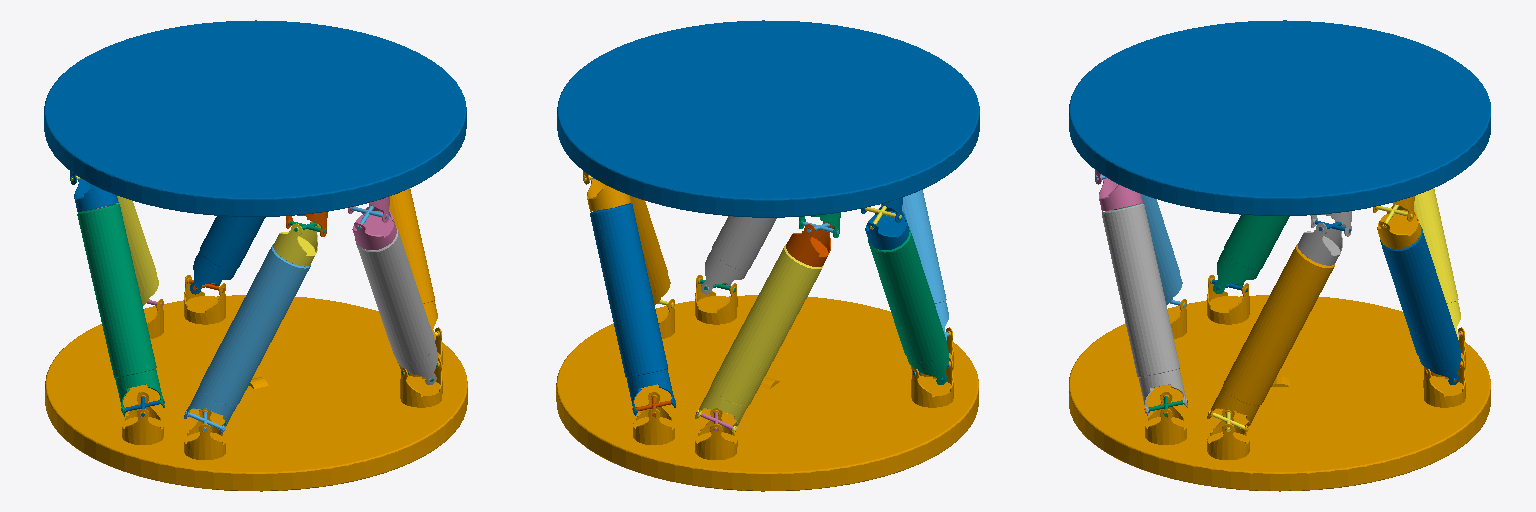
--- What the picture shows (computed from the rendered views, not written in the file) ---
Views: 3 orthographic renders of the robot side by side, from view 1: azimuth 30°, elevation 25°; view 2: azimuth 150°, elevation 25°; view 3: azimuth 270°, elevation 25°.
Robot: Stewart — 51 links, 50 joints (29 revolute, 1 continuous, 6 prismatic, 14 fixed); root link base_link; default pose: every joint at zero.
Visible links, largest first — view 1: TOP1, base_link, cylinder21, cylinder11, cylinder61, cylinder41, cylinder51, cylinder31, piston11, piston61, piston21; view 2: TOP1, base_link, cylinder41, cylinder31, cylinder21, cylinder61, cylinder11, cylinder51, piston31, piston21, piston41; view 3: TOP1, base_link, cylinder61, cylinder51, cylinder41, cylinder21, cylinder31, cylinder11, piston51, piston41, piston61.
Boxes of the visible links, left/top/right/bottom form: TOP1: left=44, top=20, right=466, bottom=216; base_link: left=45, top=275, right=467, bottom=491; cylinder21: left=77, top=204, right=164, bottom=416; cylinder11: left=184, top=245, right=310, bottom=434; cylinder61: left=355, top=227, right=437, bottom=384; cylinder41: left=190, top=216, right=265, bottom=294; cylinder51: left=369, top=188, right=437, bottom=339; cylinder31: left=116, top=196, right=158, bottom=305; piston11: left=273, top=221, right=320, bottom=266; piston61: left=352, top=205, right=396, bottom=249; piston21: left=74, top=175, right=118, bottom=211; TOP1: left=557, top=20, right=979, bottom=217; base_link: left=556, top=275, right=978, bottom=491; cylinder41: left=590, top=203, right=675, bottom=415; cylinder31: left=695, top=245, right=823, bottom=434; cylinder21: left=868, top=227, right=948, bottom=384; cylinder61: left=701, top=216, right=776, bottom=294; cylinder11: left=881, top=190, right=948, bottom=340; cylinder51: left=630, top=196, right=670, bottom=304; piston31: left=786, top=222, right=833, bottom=266; piston21: left=865, top=205, right=909, bottom=249; piston41: left=587, top=179, right=630, bottom=211; TOP1: left=1069, top=20, right=1490, bottom=215; base_link: left=1069, top=275, right=1490, bottom=491; cylinder61: left=1102, top=203, right=1187, bottom=415; cylinder51: left=1207, top=244, right=1334, bottom=434; cylinder41: left=1380, top=225, right=1460, bottom=384; cylinder21: left=1213, top=215, right=1289, bottom=293; cylinder31: left=1393, top=188, right=1460, bottom=339; cylinder11: left=1114, top=182, right=1182, bottom=304; piston51: left=1298, top=220, right=1345, bottom=265; piston41: left=1377, top=205, right=1420, bottom=248; piston61: left=1099, top=174, right=1142, bottom=211.
Size in the robot's own frame: 0.501 by 0.5004 by 0.3838 metres.
51 mesh visuals loaded from 51 distinct referenced files (51 binary STL).

robot.urdf — Stewart:
<?xml version="1.0" ?>
<robot name="Stewart">

<material name="silver">
  <color rgba="0.700 0.700 0.700 1.000"/>
</material>

<link name="base_link">
  <inertial>
    <origin xyz="2.3255899752716172e-11 -1.1937183962455178e-11 0.013288962255547656" rpy="0 0 0"/>
    <mass value="13.757667475145922"/>
    <inertia ixx="0.21797416015774124" iyy="0.2179741700510937" izz="0.4340771179526647" ixy="3.067776560401459e-11" iyz="4.670150176529436e-12" ixz="-8.804667573970036e-12"/>
  </inertial>
  <visual>
    <origin xyz="0 0 0" rpy="0 0 0"/>
    <geometry>
      <mesh filename="meshes/base_link.stl" scale="0.001 0.001 0.001"/>
    </geometry>
    <material name="silver"/>
    <material/>
  </visual>
  <collision>
    <origin xyz="0 0 0" rpy="0 0 0"/>
    <geometry>
      <mesh filename="meshes/base_link.stl" scale="0.001 0.001 0.001"/>
    </geometry>
  </collision>
</link>

<link name="X1bottom1">
  <inertial>
    <origin xyz="0.012750034781542574 0.022083926967425505 -4.07240130076425e-07" rpy="0 0 0"/>
    <mass value="0.015369342112821462"/>
    <inertia ixx="2.084365263984602e-06" iyy="1.9211221879191767e-06" izz="3.3040955648304437e-06" ixy="-1.4137265086372345e-07" iyz="-3.4574917186284927e-07" ixz="5.988551323401657e-07"/>
  </inertial>
  <visual>
    <origin xyz="0.160375 0.15639 -0.064756" rpy="0 0 0"/>
    <geometry>
      <mesh filename="meshes/X1bottom1.stl" scale="0.001 0.001 0.001"/>
    </geometry>
    <material name="silver"/>
    <material/>
  </visual>
  <collision>
    <origin xyz="0.160375 0.15639 -0.064756" rpy="0 0 0"/>
    <geometry>
      <mesh filename="meshes/X1bottom1.stl" scale="0.001 0.001 0.001"/>
    </geometry>
  </collision>
</link>

<link name="X6bottom1">
  <inertial>
    <origin xyz="-0.025500046262033477 -6.64043929288205e-08 -4.0724012435877643e-07" rpy="0 0 0"/>
    <mass value="0.015369342112821437"/>
    <inertia ixx="1.8395006492809914e-06" iyy="1.9359846193172324e-06" izz="3.534097746554256e-06" ixy="-1.5720931501039814e-18" iyz="-4.0435313273422735e-07" ixz="6.505213034913027e-19"/>
  </inertial>
  <visual>
    <origin xyz="-0.173125 0.134306 -0.064756" rpy="0 0 0"/>
    <geometry>
      <mesh filename="meshes/X6bottom1.stl" scale="0.001 0.001 0.001"/>
    </geometry>
    <material name="silver"/>
    <material/>
  </visual>
  <collision>
    <origin xyz="-0.173125 0.134306 -0.064756" rpy="0 0 0"/>
    <geometry>
      <mesh filename="meshes/X6bottom1.stl" scale="0.001 0.001 0.001"/>
    </geometry>
  </collision>
</link>

<link name="X5bottom1">
  <inertial>
    <origin xyz="-0.02550004626203478 6.64043108555834e-08 -4.072401355581512e-07" rpy="0 0 0"/>
    <mass value="0.015369342112821526"/>
    <inertia ixx="1.8395006498894727e-06" iyy="2.172764835612533e-06" izz="3.2973175311558616e-06" ixy="6.505213034913027e-19" iyz="6.970209157905062e-07" ixz="-6.776263578034403e-19"/>
  </inertial>
  <visual>
    <origin xyz="-0.215625 0.060694 -0.064756" rpy="0 0 0"/>
    <geometry>
      <mesh filename="meshes/X5bottom1.stl" scale="0.001 0.001 0.001"/>
    </geometry>
    <material name="silver"/>
    <material/>
  </visual>
  <collision>
    <origin xyz="-0.215625 0.060694 -0.064756" rpy="0 0 0"/>
    <geometry>
      <mesh filename="meshes/X5bottom1.stl" scale="0.001 0.001 0.001"/>
    </geometry>
  </collision>
</link>

<link name="X2bottom1">
  <inertial>
    <origin xyz="0.012750057742457938 0.02208407303261209 -4.0724011943216176e-07" rpy="0 0 0"/>
    <mass value="0.01536934211282146"/>
    <inertia ixx="1.9154889064606698e-06" iyy="1.8648300683498514e-06" izz="3.52926404049189e-06" ixy="-4.387184072903198e-08" iyz="2.0688336118809613e-07" ixz="-3.583324928187583e-07"/>
  </inertial>
  <visual>
    <origin xyz="0.202875 0.082778 -0.064756" rpy="0 0 0"/>
    <geometry>
      <mesh filename="meshes/X2bottom1.stl" scale="0.001 0.001 0.001"/>
    </geometry>
    <material name="silver"/>
    <material/>
  </visual>
  <collision>
    <origin xyz="0.202875 0.082778 -0.064756" rpy="0 0 0"/>
    <geometry>
      <mesh filename="meshes/X2bottom1.stl" scale="0.001 0.001 0.001"/>
    </geometry>
  </collision>
</link>

<link name="X4bottom1">
  <inertial>
    <origin xyz="-0.01275001148042354 0.02208399337177483 -4.0724011900195034e-07" rpy="0 0 0"/>
    <mass value="0.015369342112821484"/>
    <inertia ixx="1.9105114098006163e-06" iyy="1.8631709027955968e-06" izz="3.5359007027058187e-06" ixy="4.0998081692929103e-08" iyz="2.0038517759793806e-07" ixz="3.470773086839383e-07"/>
  </inertial>
  <visual>
    <origin xyz="-0.05525 -0.172916 -0.064756" rpy="0 0 0"/>
    <geometry>
      <mesh filename="meshes/X4bottom1.stl" scale="0.001 0.001 0.001"/>
    </geometry>
    <material name="silver"/>
    <material/>
  </visual>
  <collision>
    <origin xyz="-0.05525 -0.172916 -0.064756" rpy="0 0 0"/>
    <geometry>
      <mesh filename="meshes/X4bottom1.stl" scale="0.001 0.001 0.001"/>
    </geometry>
  </collision>
</link>

<link name="X3bottom1">
  <inertial>
    <origin xyz="-0.012749988519508704 0.022084006628265207 -4.0724013015969174e-07" rpy="0 0 0"/>
    <mass value="0.015369342112821385"/>
    <inertia ixx="2.0920363194620656e-06" iyy="1.9236792064083623e-06" izz="3.293867490850879e-06" ixy="1.4580153681278572e-07" iyz="-3.4989498656401896e-07" ixz="-6.06035894043035e-07"/>
  </inertial>
  <visual>
    <origin xyz="0.02975 -0.172916 -0.064756" rpy="0 0 0"/>
    <geometry>
      <mesh filename="meshes/X3bottom1.stl" scale="0.001 0.001 0.001"/>
    </geometry>
    <material name="silver"/>
    <material/>
  </visual>
  <collision>
    <origin xyz="0.02975 -0.172916 -0.064756" rpy="0 0 0"/>
    <geometry>
      <mesh filename="meshes/X3bottom1.stl" scale="0.001 0.001 0.001"/>
    </geometry>
  </collision>
</link>

<link name="cylinder61">
  <inertial>
    <origin xyz="-0.04918434904597231 -0.05287862749126965 0.11066211878578129" rpy="0 0 0"/>
    <mass value="1.0834595415274024"/>
    <inertia ixx="0.003931029690579582" iyy="0.004331438955675698" izz="0.0011906258425340571" ixy="-0.0003353486833466146" iyz="0.0007946758036431328" ixz="0.0014054232697529832"/>
  </inertial>
  <visual>
    <origin xyz="-0.147625 0.109259 -0.070732" rpy="0 0 0"/>
    <geometry>
      <mesh filename="meshes/cylinder61.stl" scale="0.001 0.001 0.001"/>
    </geometry>
    <material name="silver"/>
    <material/>
  </visual>
  <collision>
    <origin xyz="-0.147625 0.109259 -0.070732" rpy="0 0 0"/>
    <geometry>
      <mesh filename="meshes/cylinder61.stl" scale="0.001 0.001 0.001"/>
    </geometry>
  </collision>
</link>

<link name="cylinder51">
  <inertial>
    <origin xyz="-0.0004859817530507571 0.07913805533522147 0.10582169844859306" rpy="0 0 0"/>
    <mass value="1.0834593359661664"/>
    <inertia ixx="0.0045236090842445675" iyy="0.00375582949509122" izz="0.001173648926438016" ixy="6.655292627263292e-06" iyz="-0.0016004734534385834" ixz="1.3919592264648173e-05"/>
  </inertial>
  <visual>
    <origin xyz="-0.190125 0.083925 -0.075863" rpy="0 0 0"/>
    <geometry>
      <mesh filename="meshes/cylinder51.stl" scale="0.001 0.001 0.001"/>
    </geometry>
    <material name="silver"/>
    <material/>
  </visual>
  <collision>
    <origin xyz="-0.190125 0.083925 -0.075863" rpy="0 0 0"/>
    <geometry>
      <mesh filename="meshes/cylinder51.stl" scale="0.001 0.001 0.001"/>
    </geometry>
  </collision>
</link>

<link name="cylinder11">
  <inertial>
    <origin xyz="0.027679031631056533 -0.01615886449286605 0.12819492556868725" rpy="0 0 0"/>
    <mass value="1.0834595971642158"/>
    <inertia ixx="0.003961270893089702" iyy="0.004333780915973265" izz="0.0011580440629181954" ixy="0.00032679379954486665" iyz="0.0007977502915447882" ixz="-0.0013728685448845604"/>
  </inertial>
  <visual>
    <origin xyz="0.127459 0.145949 -0.053762" rpy="0 0 0"/>
    <geometry>
      <mesh filename="meshes/cylinder11.stl" scale="0.001 0.001 0.001"/>
    </geometry>
    <material name="silver"/>
    <material/>
  </visual>
  <collision>
    <origin xyz="0.127459 0.145949 -0.053762" rpy="0 0 0"/>
    <geometry>
      <mesh filename="meshes/cylinder11.stl" scale="0.001 0.001 0.001"/>
    </geometry>
  </collision>
</link>

<link name="cylinder21">
  <inertial>
    <origin xyz="-0.02214597551926259 0.06882930176160315 0.1106042549760402" rpy="0 0 0"/>
    <mass value="1.0834595997030583"/>
    <inertia ixx="0.004521764122383441" iyy="0.0037458663101917478" izz="0.0011854653467073123" ixy="7.769778620969376e-06" iyz="-0.0016103811645094381" ixz="1.3367128346729318e-05"/>
  </inertial>
  <visual>
    <origin xyz="0.168465 0.073199 -0.07088" rpy="0 0 0"/>
    <geometry>
      <mesh filename="meshes/cylinder21.stl" scale="0.001 0.001 0.001"/>
    </geometry>
    <material name="silver"/>
    <material/>
  </visual>
  <collision>
    <origin xyz="0.168465 0.073199 -0.07088" rpy="0 0 0"/>
    <geometry>
      <mesh filename="meshes/cylinder21.stl" scale="0.001 0.001 0.001"/>
    </geometry>
  </collision>
</link>

<link name="cylinder31">
  <inertial>
    <origin xyz="-0.06900668487132594 -0.03927565360067878 0.10562619849582729" rpy="0 0 0"/>
    <mass value="1.0834597856232793"/>
    <inertia ixx="0.003935998987140948" iyy="0.0043355285821549475" izz="0.0011815729850209941" ixy="-0.00033251703539186744" iyz="0.0007912799527111589" ixz="0.001398565608451037"/>
  </inertial>
  <visual>
    <origin xyz="0.022405 -0.206602 -0.07592" rpy="0 0 0"/>
    <geometry>
      <mesh filename="meshes/cylinder31.stl" scale="0.001 0.001 0.001"/>
    </geometry>
    <material name="silver"/>
    <material/>
  </visual>
  <collision>
    <origin xyz="0.022405 -0.206602 -0.07592" rpy="0 0 0"/>
    <geometry>
      <mesh filename="meshes/cylinder31.stl" scale="0.001 0.001 0.001"/>
    </geometry>
  </collision>
</link>

<link name="cylinder41">
  <inertial>
    <origin xyz="0.026360716070562548 -0.04045811761718601 0.12300236186687408" rpy="0 0 0"/>
    <mass value="1.083459390274659"/>
    <inertia ixx="0.003955875101816386" iyy="0.004331963660871262" izz="0.001165249847257084" ixy="0.00032777770212437385" iyz="0.0008013649666691741" ixz="-0.0013781057966789113"/>
  </inertial>
  <visual>
    <origin xyz="-0.064203 -0.20753 -0.058835" rpy="0 0 0"/>
    <geometry>
      <mesh filename="meshes/cylinder41.stl" scale="0.001 0.001 0.001"/>
    </geometry>
    <material name="silver"/>
    <material/>
  </visual>
  <collision>
    <origin xyz="-0.064203 -0.20753 -0.058835" rpy="0 0 0"/>
    <geometry>
      <mesh filename="meshes/cylinder41.stl" scale="0.001 0.001 0.001"/>
    </geometry>
  </collision>
</link>

<link name="rod11">
  <inertial>
    <origin xyz="-0.03669234752605403 0.021321590239931215 -0.08988297425474576" rpy="0 0 0"/>
    <mass value="0.2833716573537993"/>
    <inertia ixx="0.000823902654109393" iyy="0.0009085197934918156" izz="0.00018505910049279248" ixy="7.423528261029082e-05" iyz="0.00018184738918601215" ixz="-0.0003129468812543765"/>
  </inertial>
  <visual>
    <origin xyz="0.059027 0.185789 -0.281787" rpy="0 0 0"/>
    <geometry>
      <mesh filename="meshes/rod11.stl" scale="0.001 0.001 0.001"/>
    </geometry>
    <material name="silver"/>
    <material/>
  </visual>
  <collision>
    <origin xyz="0.059027 0.185789 -0.281787" rpy="0 0 0"/>
    <geometry>
      <mesh filename="meshes/rod11.stl" scale="0.001 0.001 0.001"/>
    </geometry>
  </collision>
</link>

<link name="rod21">
  <inertial>
    <origin xyz="0.00037095794647595826 -0.04297719725828332 -0.0890675531341732" rpy="0 0 0"/>
    <mass value="0.2833716573537998"/>
    <inertia ixx="0.0009516433027025335" iyy="0.000774608025275101" izz="0.00019123022011655576" ixy="1.5275741736574117e-06" iyz="-0.0003669227394076931" ixz="3.1658095691923516e-06"/>
  </inertial>
  <visual>
    <origin xyz="0.191025 -0.043606 -0.280911" rpy="0 0 0"/>
    <geometry>
      <mesh filename="meshes/rod21.stl" scale="0.001 0.001 0.001"/>
    </geometry>
    <material name="silver"/>
    <material/>
  </visual>
  <collision>
    <origin xyz="0.191025 -0.043606 -0.280911" rpy="0 0 0"/>
    <geometry>
      <mesh filename="meshes/rod21.stl" scale="0.001 0.001 0.001"/>
    </geometry>
  </collision>
</link>

<link name="rod31">
  <inertial>
    <origin xyz="0.037368961812755036 0.02114222879717423 -0.08922801503409522" rpy="0 0 0"/>
    <mass value="0.2833716573537997"/>
    <inertia ixx="0.0008181425222781279" iyy="0.0009089165651000094" izz="0.0001904224607157841" ixy="-7.55405563361124e-05" iyz="0.0001803748300181745" ixz="0.0003188030254016438"/>
  </inertial>
  <visual>
    <origin xyz="0.133074 -0.143755 -0.281026" rpy="0 0 0"/>
    <geometry>
      <mesh filename="meshes/rod31.stl" scale="0.001 0.001 0.001"/>
    </geometry>
    <material name="silver"/>
    <material/>
  </visual>
  <collision>
    <origin xyz="0.133074 -0.143755 -0.281026" rpy="0 0 0"/>
    <geometry>
      <mesh filename="meshes/rod31.stl" scale="0.001 0.001 0.001"/>
    </geometry>
  </collision>
</link>

<link name="rod41">
  <inertial>
    <origin xyz="-0.03671432893419034 0.021333835501112397 -0.08943560564723566" rpy="0 0 0"/>
    <mass value="0.28337165735379954"/>
    <inertia ixx="0.0008227318902040391" iyy="0.0009081267075151493" izz="0.00018662295037495148" ixy="7.491367373303661e-05" iyz="0.00018248763684370478" ixz="-0.0003140567406109589"/>
  </inertial>
  <visual>
    <origin xyz="-0.131503 -0.143283 -0.281565" rpy="0 0 0"/>
    <geometry>
      <mesh filename="meshes/rod41.stl" scale="0.001 0.001 0.001"/>
    </geometry>
    <material name="silver"/>
    <material/>
  </visual>
  <collision>
    <origin xyz="-0.131503 -0.143283 -0.281565" rpy="0 0 0"/>
    <geometry>
      <mesh filename="meshes/rod41.stl" scale="0.001 0.001 0.001"/>
    </geometry>
  </collision>
</link>

<link name="rod51">
  <inertial>
    <origin xyz="0.0003692450240128653 -0.04246867944257937 -0.08882427581090685" rpy="0 0 0"/>
    <mass value="0.28337165735379943"/>
    <inertia ixx="0.0009516433050549174" iyy="0.0007772217479401627" izz="0.0001886164950989349" ixy="1.5161213266943614e-06" iyz="-0.0003648296558216372" ixz="3.170962611553224e-06"/>
  </inertial>
  <visual>
    <origin xyz="-0.189225 -0.042833 -0.281283" rpy="0 0 0"/>
    <geometry>
      <mesh filename="meshes/rod51.stl" scale="0.001 0.001 0.001"/>
    </geometry>
    <material name="silver"/>
    <material/>
  </visual>
  <collision>
    <origin xyz="-0.189225 -0.042833 -0.281283" rpy="0 0 0"/>
    <geometry>
      <mesh filename="meshes/rod51.stl" scale="0.001 0.001 0.001"/>
    </geometry>
  </collision>
</link>

<link name="rod61">
  <inertial>
    <origin xyz="0.037549719675037105 0.02124781812642279 -0.08904704529964502" rpy="0 0 0"/>
    <mass value="0.2833716573537993"/>
    <inertia ixx="0.0008166498088893609" iyy="0.0009084275209417948" izz="0.00019240421826258354" ixy="-7.639501504529741e-05" iyz="0.00018116756617676984" ixz="0.00032016265042498875"/>
  </inertial>
  <visual>
    <origin xyz="-0.056546 0.185844 -0.280745" rpy="0 0 0"/>
    <geometry>
      <mesh filename="meshes/rod61.stl" scale="0.001 0.001 0.001"/>
    </geometry>
    <material name="silver"/>
    <material/>
  </visual>
  <collision>
    <origin xyz="-0.056546 0.185844 -0.280745" rpy="0 0 0"/>
    <geometry>
      <mesh filename="meshes/rod61.stl" scale="0.001 0.001 0.001"/>
    </geometry>
  </collision>
</link>

<link name="piston11">
  <inertial>
    <origin xyz="0.0032860331417977687 -0.001908766209624907 0.008047604270945363" rpy="0 0 0"/>
    <mass value="0.0857844309920109"/>
    <inertia ixx="1.9053601269514858e-05" iyy="1.9509048384626186e-05" izz="2.6770943186938886e-05" ixy="-1.765300356624264e-06" iyz="-1.4155248973532833e-06" ixz="3.440522019570102e-06"/>
  </inertial>
  <visual>
    <origin xyz="0.058804 0.185918 -0.282332" rpy="0 0 0"/>
    <geometry>
      <mesh filename="meshes/piston11.stl" scale="0.001 0.001 0.001"/>
    </geometry>
    <material name="silver"/>
    <material/>
  </visual>
  <collision>
    <origin xyz="0.058804 0.185918 -0.282332" rpy="0 0 0"/>
    <geometry>
      <mesh filename="meshes/piston11.stl" scale="0.001 0.001 0.001"/>
    </geometry>
  </collision>
</link>

<link name="piston21">
  <inertial>
    <origin xyz="-3.3367295559777466e-05 0.0038670723842009896 0.008016432339832846" rpy="0 0 0"/>
    <mass value="0.08578414622058636"/>
    <inertia ixx="1.9717869511112242e-05" iyy="1.925995738403033e-05" izz="2.6355219481958257e-05" ixy="-2.0560454930393032e-08" iyz="4.465263225179872e-06" ixz="-2.667664152772309e-08"/>
  </inertial>
  <visual>
    <origin xyz="0.191029 -0.044086 -0.281906" rpy="0 0 0"/>
    <geometry>
      <mesh filename="meshes/piston21.stl" scale="0.001 0.001 0.001"/>
    </geometry>
    <material name="silver"/>
    <material/>
  </visual>
  <collision>
    <origin xyz="0.191029 -0.044086 -0.281906" rpy="0 0 0"/>
    <geometry>
      <mesh filename="meshes/piston21.stl" scale="0.001 0.001 0.001"/>
    </geometry>
  </collision>
</link>

<link name="piston31">
  <inertial>
    <origin xyz="-0.0033589282518494135 -0.0019007846162378828 0.008019414134661285" rpy="0 0 0"/>
    <mass value="0.08578406699699544"/>
    <inertia ixx="2.0970010552245205e-05" iyy="1.76442756564376e-05" izz="2.671871353242131e-05" ixy="7.045497514069667e-07" iyz="-2.277973286179697e-06" ixz="-2.9910830972889636e-06"/>
  </inertial>
  <visual>
    <origin xyz="0.133443 -0.143545 -0.281909" rpy="0 0 0"/>
    <geometry>
      <mesh filename="meshes/piston31.stl" scale="0.001 0.001 0.001"/>
    </geometry>
    <material name="silver"/>
    <material/>
  </visual>
  <collision>
    <origin xyz="0.133443 -0.143545 -0.281909" rpy="0 0 0"/>
    <geometry>
      <mesh filename="meshes/piston31.stl" scale="0.001 0.001 0.001"/>
    </geometry>
  </collision>
</link>

<link name="piston61">
  <inertial>
    <origin xyz="-0.003376585564749575 -0.0019105484034558917 0.008010209828523351" rpy="0 0 0"/>
    <mass value="0.08578421036573612"/>
    <inertia ixx="1.939597655353613e-05" iyy="1.959627509969409e-05" izz="2.6341041616389192e-05" ixy="-1.984208581616619e-07" iyz="-2.211568689989424e-06" ixz="-3.892195425233202e-06"/>
  </inertial>
  <visual>
    <origin xyz="-0.056147 0.18607 -0.281691" rpy="0 0 0"/>
    <geometry>
      <mesh filename="meshes/piston61.stl" scale="0.001 0.001 0.001"/>
    </geometry>
    <material name="silver"/>
    <material/>
  </visual>
  <collision>
    <origin xyz="-0.056147 0.18607 -0.281691" rpy="0 0 0"/>
    <geometry>
      <mesh filename="meshes/piston61.stl" scale="0.001 0.001 0.001"/>
    </geometry>
  </collision>
</link>

<link name="piston51">
  <inertial>
    <origin xyz="-3.378133003123507e-05 0.0038392545337441464 0.008029531348262398" rpy="0 0 0"/>
    <mass value="0.0857842395803521"/>
    <inertia ixx="1.787190707838119e-05" iyy="2.0732384428599065e-05" izz="2.672901543623483e-05" ixy="1.0569755338982753e-06" iyz="3.7226061677824752e-06" ixz="-5.48178695439043e-07"/>
  </inertial>
  <visual>
    <origin xyz="-0.189219 -0.0435 -0.282676" rpy="0 0 0"/>
    <geometry>
      <mesh filename="meshes/piston51.stl" scale="0.001 0.001 0.001"/>
    </geometry>
    <material name="silver"/>
    <material/>
  </visual>
  <collision>
    <origin xyz="-0.189219 -0.0435 -0.282676" rpy="0 0 0"/>
    <geometry>
      <mesh filename="meshes/piston51.stl" scale="0.001 0.001 0.001"/>
    </geometry>
  </collision>
</link>

<link name="piston41">
  <inertial>
    <origin xyz="0.0032993913873551606 -0.0019177316503581898 0.008040026546995316" rpy="0 0 0"/>
    <mass value="0.08578412180440002"/>
    <inertia ixx="1.933172949617791e-05" iyy="1.959002115996776e-05" izz="2.641133849987532e-05" ixy="2.2217075743512747e-07" iyz="-2.2199072712142387e-06" ixz="3.822362329130788e-06"/>
  </inertial>
  <visual>
    <origin xyz="-0.131873 -0.143069 -0.282465" rpy="0 0 0"/>
    <geometry>
      <mesh filename="meshes/piston41.stl" scale="0.001 0.001 0.001"/>
    </geometry>
    <material name="silver"/>
    <material/>
  </visual>
  <collision>
    <origin xyz="-0.131873 -0.143069 -0.282465" rpy="0 0 0"/>
    <geometry>
      <mesh filename="meshes/piston41.stl" scale="0.001 0.001 0.001"/>
    </geometry>
  </collision>
</link>

<link name="X6top1">
  <inertial>
    <origin xyz="-0.019884329978111126 -0.011455391103538243 -0.01111838207559357" rpy="0 0 0"/>
    <mass value="0.015369342112822157"/>
    <inertia ixx="2.0966112409073236e-06" iyy="1.9229015181614593e-06" izz="3.2900702580339596e-06" ixy="1.4643512722555983e-07" iyz="-3.478200178871861e-07" ixz="-6.107018993516925e-07"/>
  </inertial>
  <visual>
    <origin xyz="-0.06085 0.183205 -0.328812" rpy="0 0 0"/>
    <geometry>
      <mesh filename="meshes/X6top1.stl" scale="0.001 0.001 0.001"/>
    </geometry>
    <material name="silver"/>
    <material/>
  </visual>
  <collision>
    <origin xyz="-0.06085 0.183205 -0.328812" rpy="0 0 0"/>
    <geometry>
      <mesh filename="meshes/X6top1.stl" scale="0.001 0.001 0.001"/>
    </geometry>
  </collision>
</link>

<link name="X1top1">
  <inertial>
    <origin xyz="-0.02152313892009481 -0.01235951595005999 0.005854677154071231" rpy="0 0 0"/>
    <mass value="0.015369342112821587"/>
    <inertia ixx="1.909792831357015e-06" iyy="1.8636226355129779e-06" izz="3.5361675484964e-06" ixy="4.117750653656409e-08" iyz="2.023041660983776e-07" ixz="3.4534391380207016e-07"/>
  </inertial>
  <visual>
    <origin xyz="0.022513 0.18214 -0.312653" rpy="0 0 0"/>
    <geometry>
      <mesh filename="meshes/X1top1.stl" scale="0.001 0.001 0.001"/>
    </geometry>
    <material name="silver"/>
    <material/>
  </visual>
  <collision>
    <origin xyz="0.022513 0.18214 -0.312653" rpy="0 0 0"/>
    <geometry>
      <mesh filename="meshes/X1top1.stl" scale="0.001 0.001 0.001"/>
    </geometry>
  </collision>
</link>

<link name="X4top1">
  <inertial>
    <origin xyz="-0.019928843799850188 0.011553182075629997 0.010936840063824949" rpy="0 0 0"/>
    <mass value="0.015369342112821678"/>
    <inertia ixx="2.0859176366161934e-06" iyy="1.9225594856740573e-06" izz="3.301105894605084e-06" ixy="-1.4306330072965008e-07" iyz="-3.4842392312940586e-07" ixz="6.001369517963807e-07"/>
  </inertial>
  <visual>
    <origin xyz="-0.166637 -0.122895 -0.307667" rpy="0 0 0"/>
    <geometry>
      <mesh filename="meshes/X4top1.stl" scale="0.001 0.001 0.001"/>
    </geometry>
    <material name="silver"/>
    <material/>
  </visual>
  <collision>
    <origin xyz="-0.166637 -0.122895 -0.307667" rpy="0 0 0"/>
    <geometry>
      <mesh filename="meshes/X4top1.stl" scale="0.001 0.001 0.001"/>
    </geometry>
  </collision>
</link>

<link name="X5top1">
  <inertial>
    <origin xyz="-0.021432666326504285 0.012430257832952249 -0.006031718040156786" rpy="0 0 0"/>
    <mass value="0.015369342112821503"/>
    <inertia ixx="1.9145953500986426e-06" iyy="1.8646298286417902e-06" izz="3.5303578365613415e-06" ixy="-4.3440398303544936e-08" iyz="2.0613067116669482e-07" ixz="-3.5633469499759575e-07"/>
  </inertial>
  <visual>
    <origin xyz="-0.210502 -0.048326 -0.3248" rpy="0 0 0"/>
    <geometry>
      <mesh filename="meshes/X5top1.stl" scale="0.001 0.001 0.001"/>
    </geometry>
    <material name="silver"/>
    <material/>
  </visual>
  <collision>
    <origin xyz="-0.210502 -0.048326 -0.3248" rpy="0 0 0"/>
    <geometry>
      <mesh filename="meshes/X5top1.stl" scale="0.001 0.001 0.001"/>
    </geometry>
  </collision>
</link>

<link name="UJ11">
  <inertial>
    <origin xyz="-0.012901320067681007 0.02235541921296119 0.030918951565010233" rpy="0 0 0"/>
    <mass value="0.08446437141832058"/>
    <inertia ixx="1.876023436132336e-05" iyy="1.744504109833442e-05" izz="2.8099988017196882e-05" ixy="1.1291371680207524e-06" iyz="1.4108623411050736e-08" ixz="-2.2336470638156455e-08"/>
  </inertial>
  <visual>
    <origin xyz="0.031203 0.216824 -0.318557" rpy="0 0 0"/>
    <geometry>
      <mesh filename="meshes/UJ11.stl" scale="0.001 0.001 0.001"/>
    </geometry>
    <material name="silver"/>
    <material/>
  </visual>
  <collision>
    <origin xyz="0.031203 0.216824 -0.318557" rpy="0 0 0"/>
    <geometry>
      <mesh filename="meshes/UJ11.stl" scale="0.001 0.001 0.001"/>
    </geometry>
  </collision>
</link>

<link name="UJ61">
  <inertial>
    <origin xyz="-0.012901749667754182 0.022354644331419343 0.031467384378020324" rpy="0 0 0"/>
    <mass value="0.08976580902108108"/>
    <inertia ixx="2.0019277905727537e-05" iyy="1.8704085452457206e-05" izz="2.9756697223576756e-05" ixy="1.1291434924289804e-06" iyz="1.1958949313467526e-08" ixz="-2.153997661919621e-08"/>
  </inertial>
  <visual>
    <origin xyz="-0.053799 0.216985 -0.317743" rpy="0 0 0"/>
    <geometry>
      <mesh filename="meshes/UJ61.stl" scale="0.001 0.001 0.001"/>
    </geometry>
    <material name="silver"/>
    <material/>
  </visual>
  <collision>
    <origin xyz="-0.053799 0.216985 -0.317743" rpy="0 0 0"/>
    <geometry>
      <mesh filename="meshes/UJ61.stl" scale="0.001 0.001 0.001"/>
    </geometry>
  </collision>
</link>

<link name="UJ51">
  <inertial>
    <origin xyz="-0.012984746110454831 -0.022246344094046792 0.030961558117041488" rpy="0 0 0"/>
    <mass value="0.08446437135496648"/>
    <inertia ixx="1.8751746395966745e-05" iyy="1.7453513557717792e-05" izz="2.8100003288463772e-05" ixy="-1.1340783496491084e-06" iyz="6.565027374592219e-09" ixz="-1.9999536202477963e-08"/>
  </inertial>
  <visual>
    <origin xyz="-0.201986 -0.083032 -0.318775" rpy="0 0 0"/>
    <geometry>
      <mesh filename="meshes/UJ51.stl" scale="0.001 0.001 0.001"/>
    </geometry>
    <material name="silver"/>
    <material/>
  </visual>
  <collision>
    <origin xyz="-0.201986 -0.083032 -0.318775" rpy="0 0 0"/>
    <geometry>
      <mesh filename="meshes/UJ51.stl" scale="0.001 0.001 0.001"/>
    </geometry>
  </collision>
</link>

<link name="UJ41">
  <inertial>
    <origin xyz="-0.01298413751315311 -0.022244824259378043 0.030962116383411564" rpy="0 0 0"/>
    <mass value="0.08446437135502768"/>
    <inertia ixx="1.8751740512846365e-05" iyy="1.7453518773330456e-05" izz="2.810000395610116e-05" ixy="-1.1340828828861754e-06" iyz="9.23948277001957e-09" ixz="-1.865370766358787e-08"/>
  </inertial>
  <visual>
    <origin xyz="-0.159625 -0.156724 -0.31861" rpy="0 0 0"/>
    <geometry>
      <mesh filename="meshes/UJ41.stl" scale="0.001 0.001 0.001"/>
    </geometry>
    <material name="silver"/>
    <material/>
  </visual>
  <collision>
    <origin xyz="-0.159625 -0.156724 -0.31861" rpy="0 0 0"/>
    <geometry>
      <mesh filename="meshes/UJ41.stl" scale="0.001 0.001 0.001"/>
    </geometry>
  </collision>
</link>

<link name="X3top1">
  <inertial>
    <origin xyz="-3.353402112657444e-05 -0.02480945290756348 -0.0058930206690691045" rpy="0 0 0"/>
    <mass value="0.01536934211282155"/>
    <inertia ixx="1.8395124146508655e-06" iyy="1.9351469152733506e-06" izz="3.534923685234335e-06" ixy="1.0608081139852274e-09" iyz="-4.026920449144711e-07" ixz="-4.4662379918535e-09"/>
  </inertial>
  <visual>
    <origin xyz="0.148507 -0.159813 -0.323851" rpy="0 0 0"/>
    <geometry>
      <mesh filename="meshes/X3top1.stl" scale="0.001 0.001 0.001"/>
    </geometry>
    <material name="silver"/>
    <material/>
  </visual>
  <collision>
    <origin xyz="0.148507 -0.159813 -0.323851" rpy="0 0 0"/>
    <geometry>
      <mesh filename="meshes/X3top1.stl" scale="0.001 0.001 0.001"/>
    </geometry>
  </collision>
</link>

<link name="UJ31">
  <inertial>
    <origin xyz="-0.02581633328792031 7.880147311892238e-05 0.030912257401207344" rpy="0 0 0"/>
    <mass value="0.08446437149876589"/>
    <inertia ixx="1.679597726476391e-05" iyy="1.9409288641615563e-05" izz="2.8099997708991124e-05" ixy="4.877295347325075e-09" iyz="8.570491240311728e-09" ixz="-2.3217168030990887e-08"/>
  </inertial>
  <visual>
    <origin xyz="0.122791 -0.134955 -0.318014" rpy="0 0 0"/>
    <geometry>
      <mesh filename="meshes/UJ31.stl" scale="0.001 0.001 0.001"/>
    </geometry>
    <material name="silver"/>
    <material/>
  </visual>
  <collision>
    <origin xyz="0.122791 -0.134955 -0.318014" rpy="0 0 0"/>
    <geometry>
      <mesh filename="meshes/UJ31.stl" scale="0.001 0.001 0.001"/>
    </geometry>
  </collision>
</link>

<link name="X2top1">
  <inertial>
    <origin xyz="-6.697981582351464e-05 -0.02296647705208031 0.01108148332027259" rpy="0 0 0"/>
    <mass value="0.015369342112821333"/>
    <inertia ixx="1.8395030297678038e-06" iyy="2.1777483743459086e-06" izz="3.2923316124506153e-06" ixy="-8.972180309634297e-10" iyz="7.010112469824363e-07" ixz="-1.8594653816922727e-09"/>
  </inertial>
  <visual>
    <origin xyz="0.191112 -0.084438 -0.306855" rpy="0 0 0"/>
    <geometry>
      <mesh filename="meshes/X2top1.stl" scale="0.001 0.001 0.001"/>
    </geometry>
    <material name="silver"/>
    <material/>
  </visual>
  <collision>
    <origin xyz="0.191112 -0.084438 -0.306855" rpy="0 0 0"/>
    <geometry>
      <mesh filename="meshes/X2top1.stl" scale="0.001 0.001 0.001"/>
    </geometry>
  </collision>
</link>

<link name="UJ21">
  <inertial>
    <origin xyz="0.025681445954029408 -1.8339695058454397e-05 0.031024757625217725" rpy="0 0 0"/>
    <mass value="0.0844643714988272"/>
    <inertia ixx="1.6795990332425445e-05" iyy="1.9409288307042916e-05" izz="2.8099984976238772e-05" ixy="4.874755765498992e-09" iyz="8.398825725825995e-09" ixz="-2.6206504313841528e-08"/>
  </inertial>
  <visual>
    <origin xyz="0.216929 -0.06152 -0.31788" rpy="0 0 0"/>
    <geometry>
      <mesh filename="meshes/UJ21.stl" scale="0.001 0.001 0.001"/>
    </geometry>
    <material name="silver"/>
    <material/>
  </visual>
  <collision>
    <origin xyz="0.216929 -0.06152 -0.31788" rpy="0 0 0"/>
    <geometry>
      <mesh filename="meshes/UJ21.stl" scale="0.001 0.001 0.001"/>
    </geometry>
  </collision>
</link>

<link name="J1B_1">
  <inertial>
    <origin xyz="-1.136013436084382e-06 7.288732258858843e-07 0.0005001546051589534" rpy="0 0 0"/>
    <mass value="0.015413438956675112"/>
    <inertia ixx="2.4096457891830715e-06" iyy="2.4096365787221186e-06" izz="4.816685886518848e-06" ixy="-5.129826766278253e-12" iyz="2.3470151857152982e-09" ixz="-5.261045043109544e-09"/>
  </inertial>
  <visual>
    <origin xyz="0.044123 0.194461 -0.358263" rpy="0 0 0"/>
    <geometry>
      <mesh filename="meshes/J1B_1.stl" scale="0.001 0.001 0.001"/>
    </geometry>
    <material name="silver"/>
    <material/>
  </visual>
  <collision>
    <origin xyz="0.044123 0.194461 -0.358263" rpy="0 0 0"/>
    <geometry>
      <mesh filename="meshes/J1B_1.stl" scale="0.001 0.001 0.001"/>
    </geometry>
  </collision>
</link>

<link name="J2B1">
  <inertial>
    <origin xyz="-9.654413122284211e-07 7.611213046834764e-07 0.0004999608029895852" rpy="0 0 0"/>
    <mass value="0.015413438956675116"/>
    <inertia ixx="2.4096457891887094e-06" iyy="2.4096365787320932e-06" izz="4.816685886521342e-06" ixy="-5.129827931795589e-12" iyz="2.347015185661088e-09" ixz="-5.26104504362454e-09"/>
  </inertial>
  <visual>
    <origin xyz="0.191266 -0.06151 -0.357692" rpy="0 0 0"/>
    <geometry>
      <mesh filename="meshes/J2B1.stl" scale="0.001 0.001 0.001"/>
    </geometry>
    <material name="silver"/>
    <material/>
  </visual>
  <collision>
    <origin xyz="0.191266 -0.06151 -0.357692" rpy="0 0 0"/>
    <geometry>
      <mesh filename="meshes/J2B1.stl" scale="0.001 0.001 0.001"/>
    </geometry>
  </collision>
</link>

<link name="J3B1">
  <inertial>
    <origin xyz="-1.5195966931447202e-06 8.117786757522172e-07 0.0005004567878215127" rpy="0 0 0"/>
    <mass value="0.015413438956675117"/>
    <inertia ixx="2.409645789179602e-06" iyy="2.4096365787238533e-06" izz="4.816685886521125e-06" ixy="-5.129828582316892e-12" iyz="2.3470151854984578e-09" ixz="-5.2610450426487584e-09"/>
  </inertial>
  <visual>
    <origin xyz="0.148627 -0.135042 -0.357713" rpy="0 0 0"/>
    <geometry>
      <mesh filename="meshes/J3B1.stl" scale="0.001 0.001 0.001"/>
    </geometry>
    <material name="silver"/>
    <material/>
  </visual>
  <collision>
    <origin xyz="0.148627 -0.135042 -0.357713" rpy="0 0 0"/>
    <geometry>
      <mesh filename="meshes/J3B1.stl" scale="0.001 0.001 0.001"/>
    </geometry>
  </collision>
</link>

<link name="J4B1">
  <inertial>
    <origin xyz="-8.408683301319719e-07 4.401553543309511e-07 0.000500317502139136" rpy="0 0 0"/>
    <mass value="0.015413438956675112"/>
    <inertia ixx="2.4096457891761326e-06" iyy="2.409636578739032e-06" izz="4.816685886520908e-06" ixy="-5.12982787758548e-12" iyz="2.347015185606878e-09" ixz="-5.2610450431908595e-09"/>
  </inertial>
  <visual>
    <origin xyz="-0.146621 -0.134487 -0.358359" rpy="0 0 0"/>
    <geometry>
      <mesh filename="meshes/J4B1.stl" scale="0.001 0.001 0.001"/>
    </geometry>
    <material name="silver"/>
    <material/>
  </visual>
  <collision>
    <origin xyz="-0.146621 -0.134487 -0.358359" rpy="0 0 0"/>
    <geometry>
      <mesh filename="meshes/J4B1.stl" scale="0.001 0.001 0.001"/>
    </geometry>
  </collision>
</link>

<link name="J5B1">
  <inertial>
    <origin xyz="-6.404591855746489e-07 5.026130526983308e-07 0.0004997594611538259" rpy="0 0 0"/>
    <mass value="0.015413438956675116"/>
    <inertia ixx="2.4096457891869746e-06" iyy="2.4096365787273227e-06" izz="4.816685886523185e-06" ixy="-5.129827796270317e-12" iyz="2.3470151857695083e-09" ixz="-5.2610450434077e-09"/>
  </inertial>
  <visual>
    <origin xyz="-0.188982 -0.060795 -0.358524" rpy="0 0 0"/>
    <geometry>
      <mesh filename="meshes/J5B1.stl" scale="0.001 0.001 0.001"/>
    </geometry>
    <material name="silver"/>
    <material/>
  </visual>
  <collision>
    <origin xyz="-0.188982 -0.060795 -0.358524" rpy="0 0 0"/>
    <geometry>
      <mesh filename="meshes/J5B1.stl" scale="0.001 0.001 0.001"/>
    </geometry>
  </collision>
</link>

<link name="J6B1">
  <inertial>
    <origin xyz="-1.4897596720200856e-06 8.419882958632385e-07 0.0005000925490054042" rpy="0 0 0"/>
    <mass value="0.015413438956675112"/>
    <inertia ixx="2.4096457891652906e-06" iyy="2.4096365787169144e-06" izz="4.816685886519932e-06" ixy="-5.1298284467916205e-12" iyz="2.3470151857152982e-09" ixz="-5.261045043380595e-09"/>
  </inertial>
  <visual>
    <origin xyz="-0.040877 0.194621 -0.358449" rpy="0 0 0"/>
    <geometry>
      <mesh filename="meshes/J6B1.stl" scale="0.001 0.001 0.001"/>
    </geometry>
    <material name="silver"/>
    <material/>
  </visual>
  <collision>
    <origin xyz="-0.040877 0.194621 -0.358449" rpy="0 0 0"/>
    <geometry>
      <mesh filename="meshes/J6B1.stl" scale="0.001 0.001 0.001"/>
    </geometry>
  </collision>
</link>

<link name="J6T1">
  <inertial>
    <origin xyz="-6.754336243225412e-07 8.170436158749794e-07 0.000500089685049554" rpy="0 0 0"/>
    <mass value="0.015413438956675112"/>
    <inertia ixx="2.409645789178301e-06" iyy="2.4096365787385984e-06" izz="4.816685886515162e-06" ixy="-5.129827552324828e-12" iyz="2.347015186148979e-09" ixz="-5.26104504335349e-09"/>
  </inertial>
  <visual>
    <origin xyz="-0.040874 0.19462 -0.359449" rpy="0 0 0"/>
    <geometry>
      <mesh filename="meshes/J6T1.stl" scale="0.001 0.001 0.001"/>
    </geometry>
    <material name="silver"/>
    <material/>
  </visual>
  <collision>
    <origin xyz="-0.040874 0.19462 -0.359449" rpy="0 0 0"/>
    <geometry>
      <mesh filename="meshes/J6T1.stl" scale="0.001 0.001 0.001"/>
    </geometry>
  </collision>
</link>

<link name="TOP1">
  <inertial>
    <origin xyz="-0.04215544807515086 0.19509010253129316 0.010273252577432168" rpy="0 0 0"/>
    <mass value="13.182708498536908"/>
    <inertia ixx="0.20626590341010287" iyy="0.20626511936001268" izz="0.41116715691563926" ixy="-4.366805195593659e-07" iyz="0.00019979158393172063" ixz="-0.0004478507546690899"/>
  </inertial>
  <visual>
    <origin xyz="-0.040872 0.194619 -0.360449" rpy="0 0 0"/>
    <geometry>
      <mesh filename="meshes/TOP1.stl" scale="0.001 0.001 0.001"/>
    </geometry>
    <material name="silver"/>
    <material/>
  </visual>
  <collision>
    <origin xyz="-0.040872 0.194619 -0.360449" rpy="0 0 0"/>
    <geometry>
      <mesh filename="meshes/TOP1.stl" scale="0.001 0.001 0.001"/>
    </geometry>
  </collision>
</link>

<link name="J1T1">
  <inertial>
    <origin xyz="6.783126116072236e-07 -2.9607145402010815e-07 -0.0004998482587970088" rpy="0 0 0"/>
    <mass value="0.015413438956675112"/>
    <inertia ixx="2.4096457891761326e-06" iyy="2.409636578731226e-06" izz="4.816685886517222e-06" ixy="-5.1298267120681446e-12" iyz="2.3470151859321386e-09" ixz="-5.26104504329928e-09"/>
  </inertial>
  <visual>
    <origin xyz="0.044127 0.194459 -0.360263" rpy="0 0 0"/>
    <geometry>
      <mesh filename="meshes/J1T1.stl" scale="0.001 0.001 0.001"/>
    </geometry>
    <material name="silver"/>
    <material/>
  </visual>
  <collision>
    <origin xyz="0.044127 0.194459 -0.360263" rpy="0 0 0"/>
    <geometry>
      <mesh filename="meshes/J1T1.stl" scale="0.001 0.001 0.001"/>
    </geometry>
  </collision>
</link>

<link name="J2T1">
  <inertial>
    <origin xyz="8.488847356713514e-07 -2.6382337536129397e-07 -0.0005000420609661549" rpy="0 0 0"/>
    <mass value="0.015413438956675116"/>
    <inertia ixx="2.409645789180903e-06" iyy="2.409636578732527e-06" izz="4.816685886523293e-06" ixy="-5.129827064433851e-12" iyz="2.3470151857695083e-09" ixz="-5.261045042757179e-09"/>
  </inertial>
  <visual>
    <origin xyz="0.19127 -0.061512 -0.359692" rpy="0 0 0"/>
    <geometry>
      <mesh filename="meshes/J2T1.stl" scale="0.001 0.001 0.001"/>
    </geometry>
    <material name="silver"/>
    <material/>
  </visual>
  <collision>
    <origin xyz="0.19127 -0.061512 -0.359692" rpy="0 0 0"/>
    <geometry>
      <mesh filename="meshes/J2T1.stl" scale="0.001 0.001 0.001"/>
    </geometry>
  </collision>
</link>

<link name="J3T_1">
  <inertial>
    <origin xyz="1.294729354450741e-06 -2.1316600420928644e-07 -0.0004995460761342829" rpy="0 0 0"/>
    <mass value="0.015413438956675117"/>
    <inertia ixx="2.4096457891778673e-06" iyy="2.409636578729925e-06" izz="4.816685886520908e-06" ixy="-5.129826576542873e-12" iyz="2.3470151859321386e-09" ixz="-5.261045042974019e-09"/>
  </inertial>
  <visual>
    <origin xyz="0.148632 -0.135044 -0.359713" rpy="0 0 0"/>
    <geometry>
      <mesh filename="meshes/J3T_1.stl" scale="0.001 0.001 0.001"/>
    </geometry>
    <material name="silver"/>
    <material/>
  </visual>
  <collision>
    <origin xyz="0.148632 -0.135044 -0.359713" rpy="0 0 0"/>
    <geometry>
      <mesh filename="meshes/J3T_1.stl" scale="0.001 0.001 0.001"/>
    </geometry>
  </collision>
</link>

<link name="J4T1">
  <inertial>
    <origin xyz="9.734577176290227e-07 -5.847893257138193e-07 -0.0004996853618169372" rpy="0 0 0"/>
    <mass value="0.015413438956675112"/>
    <inertia ixx="2.409645789181337e-06" iyy="2.40963657872819e-06" izz="4.816685886521992e-06" ixy="-5.129826847593416e-12" iyz="2.347015186148979e-09" ixz="-5.26104504351612e-09"/>
  </inertial>
  <visual>
    <origin xyz="-0.146617 -0.134489 -0.360359" rpy="0 0 0"/>
    <geometry>
      <mesh filename="meshes/J4T1.stl" scale="0.001 0.001 0.001"/>
    </geometry>
    <material name="silver"/>
    <material/>
  </visual>
  <collision>
    <origin xyz="-0.146617 -0.134489 -0.360359" rpy="0 0 0"/>
    <geometry>
      <mesh filename="meshes/J4T1.stl" scale="0.001 0.001 0.001"/>
    </geometry>
  </collision>
</link>

<link name="J5T_1">
  <inertial>
    <origin xyz="1.173866862436146e-06 -5.223316273325618e-07 -0.0005002434028019698" rpy="0 0 0"/>
    <mass value="0.015413438956675116"/>
    <inertia ixx="2.409645789182204e-06" iyy="2.4096365787346953e-06" izz="4.816685886523619e-06" ixy="-5.129826549437819e-12" iyz="2.3470151857695083e-09" ixz="-5.2610450431908595e-09"/>
  </inertial>
  <visual>
    <origin xyz="-0.188978 -0.060797 -0.360524" rpy="0 0 0"/>
    <geometry>
      <mesh filename="meshes/J5T_1.stl" scale="0.001 0.001 0.001"/>
    </geometry>
    <material name="silver"/>
    <material/>
  </visual>
  <collision>
    <origin xyz="-0.188978 -0.060797 -0.360524" rpy="0 0 0"/>
    <geometry>
      <mesh filename="meshes/J5T_1.stl" scale="0.001 0.001 0.001"/>
    </geometry>
  </collision>
</link>

<link name="indicator1">
  <inertial>
    <origin xyz="4.423873450270588e-06 -2.115926591825419e-06 -0.002026912016654281" rpy="0 0 0"/>
    <mass value="0.00455273252922687"/>
    <inertia ixx="1.596123294817257e-07" iyy="1.4974703211429689e-07" izz="2.936498611340208e-07" ixy="-1.8862631785502032e-11" iyz="1.4027315079376597e-10" ixz="-2.929464868599837e-10"/>
  </inertial>
  <visual>
    <origin xyz="0.001256 -0.000459 -0.358167" rpy="0 0 0"/>
    <geometry>
      <mesh filename="meshes/indicator1.stl" scale="0.001 0.001 0.001"/>
    </geometry>
    <material name="silver"/>
    <material/>
  </visual>
  <collision>
    <origin xyz="0.001256 -0.000459 -0.358167" rpy="0 0 0"/>
    <geometry>
      <mesh filename="meshes/indicator1.stl" scale="0.001 0.001 0.001"/>
    </geometry>
  </collision>
</link>

<joint name="Revolute_1" type="revolute">
  <origin xyz="-0.160375 -0.15639 0.064756" rpy="0 0 0"/>
  <parent link="base_link"/>
  <child link="X1bottom1"/>
  <axis xyz="-0.5 -0.866025 -0.0"/>
  <limit upper="0.785398" lower="-0.785398" effort="100" velocity="100"/>
</joint>
<transmission name="Revolute_1_tran">
  <type>transmission_interface/SimpleTransmission</type>
  <joint name="Revolute_1">
    <hardwareInterface>PositionJointInterface</hardwareInterface>
  </joint>
  <actuator name="Revolute_1_actr">
    <hardwareInterface>PositionJointInterface</hardwareInterface>
    <mechanicalReduction>1</mechanicalReduction>
  </actuator>
</transmission>

<joint name="Revolute_2" type="revolute">
  <origin xyz="0.173125 -0.134306 0.064756" rpy="0 0 0"/>
  <parent link="base_link"/>
  <child link="X6bottom1"/>
  <axis xyz="1.0 -0.0 0.0"/>
  <limit upper="0.785398" lower="-0.785398" effort="100" velocity="100"/>
</joint>
<transmission name="Revolute_2_tran">
  <type>transmission_interface/SimpleTransmission</type>
  <joint name="Revolute_2">
    <hardwareInterface>PositionJointInterface</hardwareInterface>
  </joint>
  <actuator name="Revolute_2_actr">
    <hardwareInterface>PositionJointInterface</hardwareInterface>
    <mechanicalReduction>1</mechanicalReduction>
  </actuator>
</transmission>

<joint name="Revolute_3" type="revolute">
  <origin xyz="0.215625 -0.060694 0.064756" rpy="0 0 0"/>
  <parent link="base_link"/>
  <child link="X5bottom1"/>
  <axis xyz="1.0 -0.0 -0.0"/>
  <limit upper="0.785398" lower="-0.785398" effort="100" velocity="100"/>
</joint>
<transmission name="Revolute_3_tran">
  <type>transmission_interface/SimpleTransmission</type>
  <joint name="Revolute_3">
    <hardwareInterface>PositionJointInterface</hardwareInterface>
  </joint>
  <actuator name="Revolute_3_actr">
    <hardwareInterface>PositionJointInterface</hardwareInterface>
    <mechanicalReduction>1</mechanicalReduction>
  </actuator>
</transmission>

<joint name="Revolute_4" type="revolute">
  <origin xyz="-0.202875 -0.082778 0.064756" rpy="0 0 0"/>
  <parent link="base_link"/>
  <child link="X2bottom1"/>
  <axis xyz="-0.5 -0.866025 0.0"/>
  <limit upper="0.785398" lower="-0.785398" effort="100" velocity="100"/>
</joint>
<transmission name="Revolute_4_tran">
  <type>transmission_interface/SimpleTransmission</type>
  <joint name="Revolute_4">
    <hardwareInterface>PositionJointInterface</hardwareInterface>
  </joint>
  <actuator name="Revolute_4_actr">
    <hardwareInterface>PositionJointInterface</hardwareInterface>
    <mechanicalReduction>1</mechanicalReduction>
  </actuator>
</transmission>

<joint name="Revolute_5" type="revolute">
  <origin xyz="0.05525 0.172916 0.064756" rpy="0 0 0"/>
  <parent link="base_link"/>
  <child link="X4bottom1"/>
  <axis xyz="0.5 -0.866025 -0.0"/>
  <limit upper="0.785398" lower="-0.785398" effort="100" velocity="100"/>
</joint>
<transmission name="Revolute_5_tran">
  <type>transmission_interface/SimpleTransmission</type>
  <joint name="Revolute_5">
    <hardwareInterface>PositionJointInterface</hardwareInterface>
  </joint>
  <actuator name="Revolute_5_actr">
    <hardwareInterface>PositionJointInterface</hardwareInterface>
    <mechanicalReduction>1</mechanicalReduction>
  </actuator>
</transmission>

<joint name="Revolute_6" type="revolute">
  <origin xyz="-0.02975 0.172916 0.064756" rpy="0 0 0"/>
  <parent link="base_link"/>
  <child link="X3bottom1"/>
  <axis xyz="0.5 -0.866025 0.0"/>
  <limit upper="0.785398" lower="-0.785398" effort="100" velocity="100"/>
</joint>
<transmission name="Revolute_6_tran">
  <type>transmission_interface/SimpleTransmission</type>
  <joint name="Revolute_6">
    <hardwareInterface>PositionJointInterface</hardwareInterface>
  </joint>
  <actuator name="Revolute_6_actr">
    <hardwareInterface>PositionJointInterface</hardwareInterface>
    <mechanicalReduction>1</mechanicalReduction>
  </actuator>
</transmission>

<joint name="Revolute_7" type="revolute">
  <origin xyz="-0.0255 0.025047 0.005976" rpy="0 0 0"/>
  <parent link="X6bottom1"/>
  <child link="cylinder61"/>
  <axis xyz="0.0 0.972693 0.232097"/>
  <limit upper="0.785398" lower="-0.785398" effort="100" velocity="100"/>
</joint>
<transmission name="Revolute_7_tran">
  <type>transmission_interface/SimpleTransmission</type>
  <joint name="Revolute_7">
    <hardwareInterface>PositionJointInterface</hardwareInterface>
  </joint>
  <actuator name="Revolute_7_actr">
    <hardwareInterface>PositionJointInterface</hardwareInterface>
    <mechanicalReduction>1</mechanicalReduction>
  </actuator>
</transmission>

<joint name="Revolute_8" type="revolute">
  <origin xyz="-0.0255 -0.023231 0.011107" rpy="0 0 0"/>
  <parent link="X5bottom1"/>
  <child link="cylinder51"/>
  <axis xyz="-0.0 -0.902181 0.431357"/>
  <limit upper="0.785398" lower="-0.785398" effort="100" velocity="100"/>
</joint>
<transmission name="Revolute_8_tran">
  <type>transmission_interface/SimpleTransmission</type>
  <joint name="Revolute_8">
    <hardwareInterface>PositionJointInterface</hardwareInterface>
  </joint>
  <actuator name="Revolute_8_actr">
    <hardwareInterface>PositionJointInterface</hardwareInterface>
    <mechanicalReduction>1</mechanicalReduction>
  </actuator>
</transmission>

<joint name="Revolute_9" type="revolute">
  <origin xyz="0.032916 0.010441 -0.010994" rpy="0 0 0"/>
  <parent link="X1bottom1"/>
  <child link="cylinder11"/>
  <axis xyz="0.783126 -0.452138 -0.426948"/>
  <limit upper="0.785398" lower="-0.785398" effort="100" velocity="100"/>
</joint>
<transmission name="Revolute_9_tran">
  <type>transmission_interface/SimpleTransmission</type>
  <joint name="Revolute_9">
    <hardwareInterface>PositionJointInterface</hardwareInterface>
  </joint>
  <actuator name="Revolute_9_actr">
    <hardwareInterface>PositionJointInterface</hardwareInterface>
    <mechanicalReduction>1</mechanicalReduction>
  </actuator>
</transmission>

<joint name="Revolute_10" type="revolute">
  <origin xyz="0.03441 0.009579 0.006124" rpy="0 0 0"/>
  <parent link="X2bottom1"/>
  <child link="cylinder21"/>
  <axis xyz="0.841174 -0.485652 0.23784"/>
  <limit upper="0.785398" lower="-0.785398" effort="100" velocity="100"/>
</joint>
<transmission name="Revolute_10_tran">
  <type>transmission_interface/SimpleTransmission</type>
  <joint name="Revolute_10">
    <hardwareInterface>PositionJointInterface</hardwareInterface>
  </joint>
  <actuator name="Revolute_10_actr">
    <hardwareInterface>PositionJointInterface</hardwareInterface>
    <mechanicalReduction>1</mechanicalReduction>
  </actuator>
</transmission>

<joint name="Revolute_11" type="revolute">
  <origin xyz="0.007345 0.033686 0.011164" rpy="0 0 0"/>
  <parent link="X3bottom1"/>
  <child link="cylinder31"/>
  <axis xyz="0.780387 0.450557 0.433584"/>
  <limit upper="0.785398" lower="-0.785398" effort="100" velocity="100"/>
</joint>
<transmission name="Revolute_11_tran">
  <type>transmission_interface/SimpleTransmission</type>
  <joint name="Revolute_11">
    <hardwareInterface>PositionJointInterface</hardwareInterface>
  </joint>
  <actuator name="Revolute_11_actr">
    <hardwareInterface>PositionJointInterface</hardwareInterface>
    <mechanicalReduction>1</mechanicalReduction>
  </actuator>
</transmission>

<joint name="Revolute_12" type="revolute">
  <origin xyz="0.008953 0.034614 -0.005921" rpy="0 0 0"/>
  <parent link="X4bottom1"/>
  <child link="cylinder41"/>
  <axis xyz="0.842824 0.486605 -0.229918"/>
  <limit upper="0.785398" lower="-0.785398" effort="100" velocity="100"/>
</joint>
<transmission name="Revolute_12_tran">
  <type>transmission_interface/SimpleTransmission</type>
  <joint name="Revolute_12">
    <hardwareInterface>PositionJointInterface</hardwareInterface>
  </joint>
  <actuator name="Revolute_12_actr">
    <hardwareInterface>PositionJointInterface</hardwareInterface>
    <mechanicalReduction>1</mechanicalReduction>
  </actuator>
</transmission>

<joint name="Slider_13" type="prismatic">
  <origin xyz="0.068432 -0.03984 0.228025" rpy="0 0 0"/>
  <parent link="cylinder11"/>
  <child link="rod11"/>
  <axis xyz="0.369151 -0.214507 0.904276"/>
  <limit upper="0.19" lower="0.0" effort="100" velocity="100"/>
</joint>
<transmission name="Slider_13_tran">
  <type>transmission_interface/SimpleTransmission</type>
  <joint name="Slider_13">
    <hardwareInterface>PositionJointInterface</hardwareInterface>
  </joint>
  <actuator name="Slider_13_actr">
    <hardwareInterface>PositionJointInterface</hardwareInterface>
    <mechanicalReduction>1</mechanicalReduction>
  </actuator>
</transmission>

<joint name="Slider_14" type="prismatic">
  <origin xyz="-0.02256 0.116805 0.210031" rpy="0 0 0"/>
  <parent link="cylinder21"/>
  <child link="rod21"/>
  <axis xyz="-0.00375 0.434573 0.900629"/>
  <limit upper="0.19" lower="0.0" effort="100" velocity="100"/>
</joint>
<transmission name="Slider_14_tran">
  <type>transmission_interface/SimpleTransmission</type>
  <joint name="Slider_14">
    <hardwareInterface>PositionJointInterface</hardwareInterface>
  </joint>
  <actuator name="Slider_14_actr">
    <hardwareInterface>PositionJointInterface</hardwareInterface>
    <mechanicalReduction>1</mechanicalReduction>
  </actuator>
</transmission>

<joint name="Slider_15" type="prismatic">
  <origin xyz="-0.110669 -0.062847 0.205106" rpy="0 0 0"/>
  <parent link="cylinder31"/>
  <child link="rod31"/>
  <axis xyz="-0.377381 -0.213518 0.901107"/>
  <limit upper="0.19" lower="0.0" effort="100" velocity="100"/>
</joint>
<transmission name="Slider_15_tran">
  <type>transmission_interface/SimpleTransmission</type>
  <joint name="Slider_15">
    <hardwareInterface>PositionJointInterface</hardwareInterface>
  </joint>
  <actuator name="Slider_15_actr">
    <hardwareInterface>PositionJointInterface</hardwareInterface>
    <mechanicalReduction>1</mechanicalReduction>
  </actuator>
</transmission>

<joint name="Slider_16" type="prismatic">
  <origin xyz="0.0673 -0.064247 0.22273" rpy="0 0 0"/>
  <parent link="cylinder41"/>
  <child link="rod41"/>
  <axis xyz="0.370839 -0.215482 0.903353"/>
  <limit upper="0.19" lower="0.0" effort="100" velocity="100"/>
</joint>
<transmission name="Slider_16_tran">
  <type>transmission_interface/SimpleTransmission</type>
  <joint name="Slider_16">
    <hardwareInterface>PositionJointInterface</hardwareInterface>
  </joint>
  <actuator name="Slider_16_actr">
    <hardwareInterface>PositionJointInterface</hardwareInterface>
    <mechanicalReduction>1</mechanicalReduction>
  </actuator>
</transmission>

<joint name="Slider_17" type="prismatic">
  <origin xyz="-0.0009 0.126758 0.20542" rpy="0 0 0"/>
  <parent link="cylinder51"/>
  <child link="rod51"/>
  <axis xyz="-0.003749 0.431354 0.902175"/>
  <limit upper="0.19" lower="0.0" effort="100" velocity="100"/>
</joint>
<transmission name="Slider_17_tran">
  <type>transmission_interface/SimpleTransmission</type>
  <joint name="Slider_17">
    <hardwareInterface>PositionJointInterface</hardwareInterface>
  </joint>
  <actuator name="Slider_17_actr">
    <hardwareInterface>PositionJointInterface</hardwareInterface>
    <mechanicalReduction>1</mechanicalReduction>
  </actuator>
</transmission>

<joint name="Slider_18" type="prismatic">
  <origin xyz="-0.091079 -0.076585 0.210013" rpy="0 0 0"/>
  <parent link="cylinder61"/>
  <child link="rod61"/>
  <axis xyz="-0.379485 -0.214736 0.899933"/>
  <limit upper="0.19" lower="0.0" effort="100" velocity="100"/>
</joint>
<transmission name="Slider_18_tran">
  <type>transmission_interface/SimpleTransmission</type>
  <joint name="Slider_18">
    <hardwareInterface>PositionJointInterface</hardwareInterface>
  </joint>
  <actuator name="Slider_18_actr">
    <hardwareInterface>PositionJointInterface</hardwareInterface>
    <mechanicalReduction>1</mechanicalReduction>
  </actuator>
</transmission>

<joint name="Revolute_19" type="revolute">
  <origin xyz="0.000223 -0.000129 0.000545" rpy="0 0 0"/>
  <parent link="rod11"/>
  <child link="piston11"/>
  <axis xyz="0.369151 -0.214507 0.904276"/>
  <limit upper="6.283185" lower="0.0" effort="100" velocity="100"/>
</joint>
<transmission name="Revolute_19_tran">
  <type>transmission_interface/SimpleTransmission</type>
  <joint name="Revolute_19">
    <hardwareInterface>PositionJointInterface</hardwareInterface>
  </joint>
  <actuator name="Revolute_19_actr">
    <hardwareInterface>PositionJointInterface</hardwareInterface>
    <mechanicalReduction>1</mechanicalReduction>
  </actuator>
</transmission>

<joint name="Revolute_20" type="revolute">
  <origin xyz="-4e-06 0.00048 0.000995" rpy="0 0 0"/>
  <parent link="rod21"/>
  <child link="piston21"/>
  <axis xyz="-0.00375 0.434573 0.900629"/>
  <limit upper="6.283185" lower="0.0" effort="100" velocity="100"/>
</joint>
<transmission name="Revolute_20_tran">
  <type>transmission_interface/SimpleTransmission</type>
  <joint name="Revolute_20">
    <hardwareInterface>PositionJointInterface</hardwareInterface>
  </joint>
  <actuator name="Revolute_20_actr">
    <hardwareInterface>PositionJointInterface</hardwareInterface>
    <mechanicalReduction>1</mechanicalReduction>
  </actuator>
</transmission>

<joint name="Revolute_21" type="revolute">
  <origin xyz="-0.000369 -0.00021 0.000883" rpy="0 0 0"/>
  <parent link="rod31"/>
  <child link="piston31"/>
  <axis xyz="-0.377381 -0.213518 0.901107"/>
  <limit upper="6.283185" lower="0.0" effort="100" velocity="100"/>
</joint>
<transmission name="Revolute_21_tran">
  <type>transmission_interface/SimpleTransmission</type>
  <joint name="Revolute_21">
    <hardwareInterface>PositionJointInterface</hardwareInterface>
  </joint>
  <actuator name="Revolute_21_actr">
    <hardwareInterface>PositionJointInterface</hardwareInterface>
    <mechanicalReduction>1</mechanicalReduction>
  </actuator>
</transmission>

<joint name="Revolute_22" type="revolute">
  <origin xyz="-0.000399 -0.000226 0.000946" rpy="0 0 0"/>
  <parent link="rod61"/>
  <child link="piston61"/>
  <axis xyz="-0.379485 -0.214736 0.899933"/>
  <limit upper="6.283185" lower="0.0" effort="100" velocity="100"/>
</joint>
<transmission name="Revolute_22_tran">
  <type>transmission_interface/SimpleTransmission</type>
  <joint name="Revolute_22">
    <hardwareInterface>PositionJointInterface</hardwareInterface>
  </joint>
  <actuator name="Revolute_22_actr">
    <hardwareInterface>PositionJointInterface</hardwareInterface>
    <mechanicalReduction>1</mechanicalReduction>
  </actuator>
</transmission>

<joint name="Revolute_23" type="revolute">
  <origin xyz="-6e-06 0.000667 0.001393" rpy="0 0 0"/>
  <parent link="rod51"/>
  <child link="piston51"/>
  <axis xyz="-0.003749 0.431354 0.902175"/>
  <limit upper="6.283185" lower="0.0" effort="100" velocity="100"/>
</joint>
<transmission name="Revolute_23_tran">
  <type>transmission_interface/SimpleTransmission</type>
  <joint name="Revolute_23">
    <hardwareInterface>PositionJointInterface</hardwareInterface>
  </joint>
  <actuator name="Revolute_23_actr">
    <hardwareInterface>PositionJointInterface</hardwareInterface>
    <mechanicalReduction>1</mechanicalReduction>
  </actuator>
</transmission>

<joint name="Revolute_24" type="revolute">
  <origin xyz="0.00037 -0.000214 0.0009" rpy="0 0 0"/>
  <parent link="rod41"/>
  <child link="piston41"/>
  <axis xyz="0.370839 -0.215482 0.903353"/>
  <limit upper="6.283185" lower="0.0" effort="100" velocity="100"/>
</joint>
<transmission name="Revolute_24_tran">
  <type>transmission_interface/SimpleTransmission</type>
  <joint name="Revolute_24">
    <hardwareInterface>PositionJointInterface</hardwareInterface>
  </joint>
  <actuator name="Revolute_24_actr">
    <hardwareInterface>PositionJointInterface</hardwareInterface>
    <mechanicalReduction>1</mechanicalReduction>
  </actuator>
</transmission>

<joint name="Revolute_25" type="revolute">
  <origin xyz="0.004703 0.002865 0.047121" rpy="0 0 0"/>
  <parent link="piston61"/>
  <child link="X6top1"/>
  <axis xyz="-0.779795 -0.449231 -0.436018"/>
  <limit upper="0.785398" lower="-0.785398" effort="100" velocity="100"/>
</joint>
<transmission name="Revolute_25_tran">
  <type>transmission_interface/SimpleTransmission</type>
  <joint name="Revolute_25">
    <hardwareInterface>PositionJointInterface</hardwareInterface>
  </joint>
  <actuator name="Revolute_25_actr">
    <hardwareInterface>PositionJointInterface</hardwareInterface>
    <mechanicalReduction>1</mechanicalReduction>
  </actuator>
</transmission>

<joint name="Revolute_26" type="revolute">
  <origin xyz="0.036291 0.003778 0.030321" rpy="0 0 0"/>
  <parent link="piston11"/>
  <child link="X1top1"/>
  <axis xyz="-0.844029 -0.484671 0.229586"/>
  <limit upper="0.785398" lower="-0.785398" effort="100" velocity="100"/>
</joint>
<transmission name="Revolute_26_tran">
  <type>transmission_interface/SimpleTransmission</type>
  <joint name="Revolute_26">
    <hardwareInterface>PositionJointInterface</hardwareInterface>
  </joint>
  <actuator name="Revolute_26_actr">
    <hardwareInterface>PositionJointInterface</hardwareInterface>
    <mechanicalReduction>1</mechanicalReduction>
  </actuator>
</transmission>

<joint name="Revolute_27" type="revolute">
  <origin xyz="0.034764 -0.020174 0.025202" rpy="0 0 0"/>
  <parent link="piston41"/>
  <child link="X4top1"/>
  <axis xyz="-0.78153 0.453054 0.428898"/>
  <limit upper="0.785398" lower="-0.785398" effort="100" velocity="100"/>
</joint>
<transmission name="Revolute_27_tran">
  <type>transmission_interface/SimpleTransmission</type>
  <joint name="Revolute_27">
    <hardwareInterface>PositionJointInterface</hardwareInterface>
  </joint>
  <actuator name="Revolute_27_actr">
    <hardwareInterface>PositionJointInterface</hardwareInterface>
    <mechanicalReduction>1</mechanicalReduction>
  </actuator>
</transmission>

<joint name="Revolute_28" type="revolute">
  <origin xyz="0.021283 0.004826 0.042124" rpy="0 0 0"/>
  <parent link="piston51"/>
  <child link="X5top1"/>
  <axis xyz="-0.840501 0.487444 -0.236553"/>
  <limit upper="0.785398" lower="-0.785398" effort="100" velocity="100"/>
</joint>
<transmission name="Revolute_28_tran">
  <type>transmission_interface/SimpleTransmission</type>
  <joint name="Revolute_28">
    <hardwareInterface>PositionJointInterface</hardwareInterface>
  </joint>
  <actuator name="Revolute_28_actr">
    <hardwareInterface>PositionJointInterface</hardwareInterface>
    <mechanicalReduction>1</mechanicalReduction>
  </actuator>
</transmission>

<joint name="Revolute_29" type="revolute">
  <origin xyz="-0.00869 -0.034684 0.005904" rpy="0 0 0"/>
  <parent link="X1top1"/>
  <child link="UJ11"/>
  <axis xyz="0.498367 -0.866964 0.001935"/>
  <limit upper="6.283185" lower="0.0" effort="100" velocity="100"/>
</joint>
<transmission name="Revolute_29_tran">
  <type>transmission_interface/SimpleTransmission</type>
  <joint name="Revolute_29">
    <hardwareInterface>PositionJointInterface</hardwareInterface>
  </joint>
  <actuator name="Revolute_29_actr">
    <hardwareInterface>PositionJointInterface</hardwareInterface>
    <mechanicalReduction>1</mechanicalReduction>
  </actuator>
</transmission>

<joint name="Revolute_30" type="revolute">
  <origin xyz="-0.007051 -0.03378 -0.011069" rpy="0 0 0"/>
  <parent link="X6top1"/>
  <child link="UJ61"/>
  <axis xyz="0.498367 -0.866964 0.001935"/>
  <limit upper="6.283185" lower="0.0" effort="100" velocity="100"/>
</joint>
<transmission name="Revolute_30_tran">
  <type>transmission_interface/SimpleTransmission</type>
  <joint name="Revolute_30">
    <hardwareInterface>PositionJointInterface</hardwareInterface>
  </joint>
  <actuator name="Revolute_30_actr">
    <hardwareInterface>PositionJointInterface</hardwareInterface>
    <mechanicalReduction>1</mechanicalReduction>
  </actuator>
</transmission>

<joint name="Revolute_31" type="revolute">
  <origin xyz="-0.008516 0.034706 -0.006025" rpy="0 0 0"/>
  <parent link="X5top1"/>
  <child link="UJ51"/>
  <axis xyz="0.501629 0.865083 0.000253"/>
  <limit upper="6.283185" lower="0.0" effort="100" velocity="100"/>
</joint>
<transmission name="Revolute_31_tran">
  <type>transmission_interface/SimpleTransmission</type>
  <joint name="Revolute_31">
    <hardwareInterface>PositionJointInterface</hardwareInterface>
  </joint>
  <actuator name="Revolute_31_actr">
    <hardwareInterface>PositionJointInterface</hardwareInterface>
    <mechanicalReduction>1</mechanicalReduction>
  </actuator>
</transmission>

<joint name="Revolute_32" type="revolute">
  <origin xyz="-0.007012 0.033829 0.010943" rpy="0 0 0"/>
  <parent link="X4top1"/>
  <child link="UJ41"/>
  <axis xyz="0.501629 0.865083 0.000253"/>
  <limit upper="6.283185" lower="0.0" effort="100" velocity="100"/>
</joint>
<transmission name="Revolute_32_tran">
  <type>transmission_interface/SimpleTransmission</type>
  <joint name="Revolute_32">
    <hardwareInterface>PositionJointInterface</hardwareInterface>
  </joint>
  <actuator name="Revolute_32_actr">
    <hardwareInterface>PositionJointInterface</hardwareInterface>
    <mechanicalReduction>1</mechanicalReduction>
  </actuator>
</transmission>

<joint name="Revolute_33" type="revolute">
  <origin xyz="-0.015064 0.016268 0.041942" rpy="0 0 0"/>
  <parent link="piston31"/>
  <child link="X3top1"/>
  <axis xyz="-0.001325 -0.972931 -0.231091"/>
  <limit upper="0.785398" lower="-0.785398" effort="100" velocity="100"/>
</joint>
<transmission name="Revolute_33_tran">
  <type>transmission_interface/SimpleTransmission</type>
  <joint name="Revolute_33">
    <hardwareInterface>PositionJointInterface</hardwareInterface>
  </joint>
  <actuator name="Revolute_33_actr">
    <hardwareInterface>PositionJointInterface</hardwareInterface>
    <mechanicalReduction>1</mechanicalReduction>
  </actuator>
</transmission>

<joint name="Revolute_34" type="continuous">
  <origin xyz="0.025716 -0.024858 -0.005837" rpy="0 0 0"/>
  <parent link="X3top1"/>
  <child link="UJ31"/>
  <axis xyz="0.999996 -0.001881 0.002188"/>
</joint>
<transmission name="Revolute_34_tran">
  <type>transmission_interface/SimpleTransmission</type>
  <joint name="Revolute_34">
    <hardwareInterface>PositionJointInterface</hardwareInterface>
  </joint>
  <actuator name="Revolute_34_actr">
    <hardwareInterface>PositionJointInterface</hardwareInterface>
    <mechanicalReduction>1</mechanicalReduction>
  </actuator>
</transmission>

<joint name="Revolute_35" type="revolute">
  <origin xyz="-8.3e-05 0.040352 0.024949" rpy="0 0 0"/>
  <parent link="piston21"/>
  <child link="X2top1"/>
  <axis xyz="-0.002645 -0.900636 0.434566"/>
  <limit upper="0.785398" lower="-0.785398" effort="100" velocity="100"/>
</joint>
<transmission name="Revolute_35_tran">
  <type>transmission_interface/SimpleTransmission</type>
  <joint name="Revolute_35">
    <hardwareInterface>PositionJointInterface</hardwareInterface>
  </joint>
  <actuator name="Revolute_35_actr">
    <hardwareInterface>PositionJointInterface</hardwareInterface>
    <mechanicalReduction>1</mechanicalReduction>
  </actuator>
</transmission>

<joint name="Revolute_36" type="revolute">
  <origin xyz="-0.025817 -0.022918 0.011025" rpy="0 0 0"/>
  <parent link="X2top1"/>
  <child link="UJ21"/>
  <axis xyz="-0.999996 0.001881 -0.002188"/>
  <limit upper="6.283185" lower="0.0" effort="100" velocity="100"/>
</joint>
<transmission name="Revolute_36_tran">
  <type>transmission_interface/SimpleTransmission</type>
  <joint name="Revolute_36">
    <hardwareInterface>PositionJointInterface</hardwareInterface>
  </joint>
  <actuator name="Revolute_36_actr">
    <hardwareInterface>PositionJointInterface</hardwareInterface>
    <mechanicalReduction>1</mechanicalReduction>
  </actuator>
</transmission>

<joint name="Rigid_59" type="fixed">
  <origin xyz="-0.01292 0.022363 0.039706" rpy="0 0 0"/>
  <parent link="UJ11"/>
  <child link="J1B_1"/>
</joint>

<joint name="Rigid_60" type="fixed">
  <origin xyz="0.025663 -1e-05 0.039812" rpy="0 0 0"/>
  <parent link="UJ21"/>
  <child link="J2B1"/>
</joint>

<joint name="Rigid_61" type="fixed">
  <origin xyz="-0.025836 8.7e-05 0.039699" rpy="0 0 0"/>
  <parent link="UJ31"/>
  <child link="J3B1"/>
</joint>

<joint name="Rigid_62" type="fixed">
  <origin xyz="-0.013004 -0.022237 0.039749" rpy="0 0 0"/>
  <parent link="UJ41"/>
  <child link="J4B1"/>
</joint>

<joint name="Rigid_63" type="fixed">
  <origin xyz="-0.013004 -0.022237 0.039749" rpy="0 0 0"/>
  <parent link="UJ51"/>
  <child link="J5B1"/>
</joint>

<joint name="Rigid_64" type="fixed">
  <origin xyz="-0.012922 0.022364 0.040706" rpy="0 0 0"/>
  <parent link="UJ61"/>
  <child link="J6B1"/>
</joint>

<joint name="Rigid_65" type="fixed">
  <origin xyz="-3e-06 1e-06 0.001" rpy="0 0 0"/>
  <parent link="J6B1"/>
  <child link="J6T1"/>
</joint>

<joint name="Rigid_66" type="fixed">
  <origin xyz="-2e-06 1e-06 0.001" rpy="0 0 0"/>
  <parent link="J6T1"/>
  <child link="TOP1"/>
</joint>

<joint name="Rigid_67" type="fixed">
  <origin xyz="-0.084999 0.00016 -0.000186" rpy="0 0 0"/>
  <parent link="TOP1"/>
  <child link="J1T1"/>
</joint>

<joint name="Rigid_68" type="fixed">
  <origin xyz="-0.232142 0.256131 -0.000757" rpy="0 0 0"/>
  <parent link="TOP1"/>
  <child link="J2T1"/>
</joint>

<joint name="Rigid_69" type="fixed">
  <origin xyz="-0.189504 0.329663 -0.000736" rpy="0 0 0"/>
  <parent link="TOP1"/>
  <child link="J3T_1"/>
</joint>

<joint name="Rigid_70" type="fixed">
  <origin xyz="0.105745 0.329108 -9e-05" rpy="0 0 0"/>
  <parent link="TOP1"/>
  <child link="J4T1"/>
</joint>

<joint name="Rigid_71" type="fixed">
  <origin xyz="0.148106 0.255416 7.5e-05" rpy="0 0 0"/>
  <parent link="TOP1"/>
  <child link="J5T_1"/>
</joint>

<joint name="Rigid_77" type="fixed">
  <origin xyz="-0.042128 0.195078 -0.002282" rpy="0 0 0"/>
  <parent link="TOP1"/>
  <child link="indicator1"/>
</joint>

</robot>
